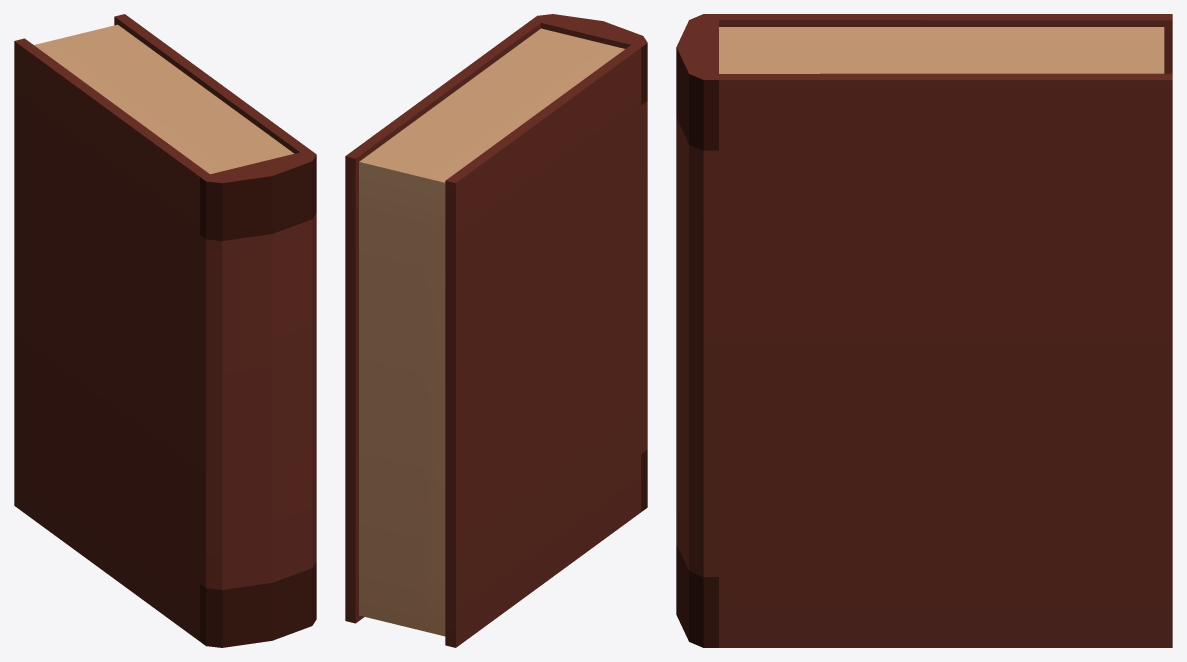
The model's file is Book_red_C.fbx.
The picture shows the model from 3 angles, left to right: view 1: azimuth 30°, elevation 25°; view 2: azimuth 150°, elevation 25°; view 3: azimuth 270°, elevation 25°; orthographic projection. The views are drawn at different scales.
Visible parts, largest first — view 1: Book_red_C; view 2: Book_red_C; view 3: Book_red_C.
Boxes of the visible parts, <box> form: Book_red_C: <box>14,14,316,647</box>; Book_red_C: <box>345,14,647,647</box>; Book_red_C: <box>676,14,1172,647</box>.
Bounding box in the file's own units: 6.32 × 25.38 × 20.08.
